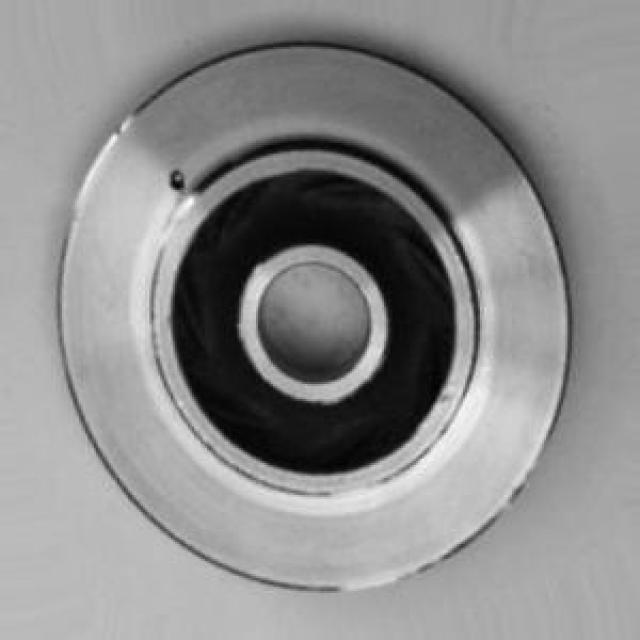Defect: (166, 166, 188, 191)
